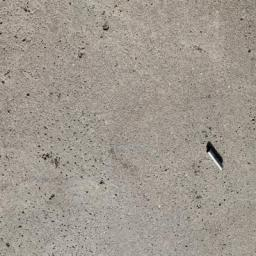FOD: (204, 141, 227, 173)
